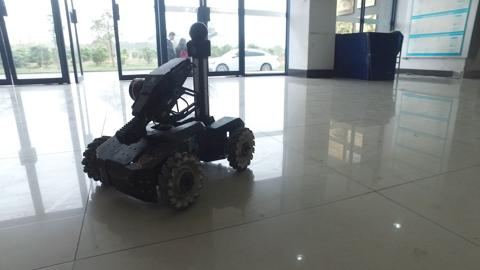chariot: (73, 17, 274, 213)
